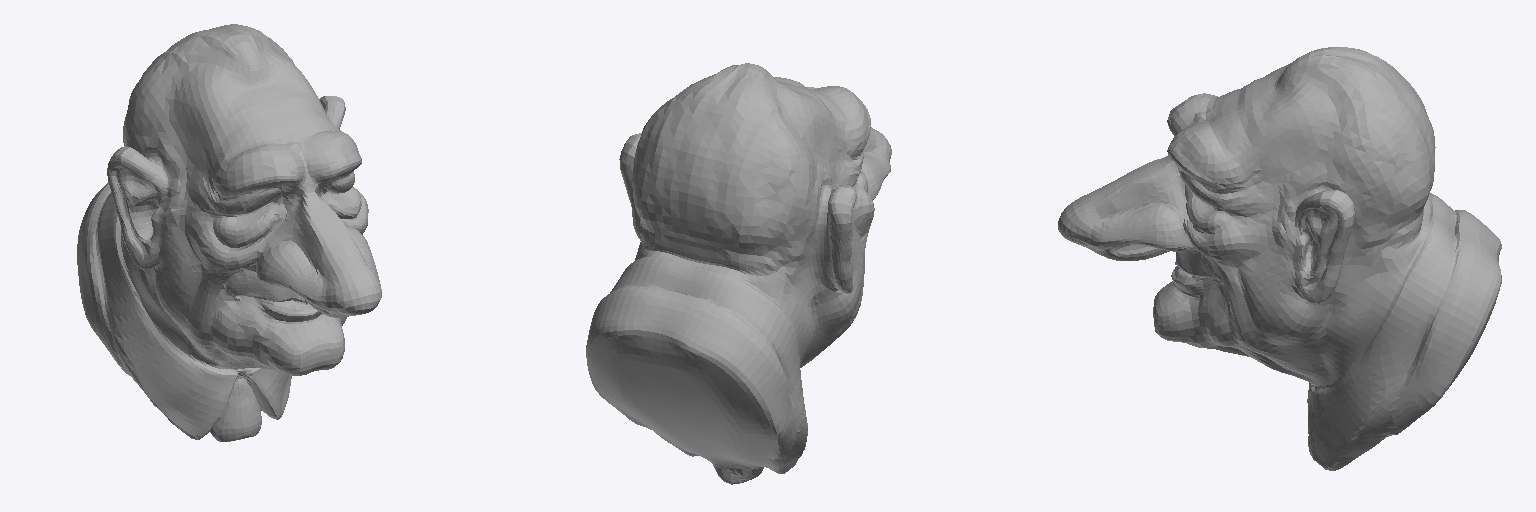
Rendered from jacques.obj.
3 views of the same model, side by side, from view 1: azimuth 30°, elevation 25°; view 2: azimuth 150°, elevation 25°; view 3: azimuth 270°, elevation 25° (orthographic).
Visible parts, largest first — view 1: object_0; view 2: object_0; view 3: object_0.
Boxes of the visible parts, x1=… form: object_0: x1=77, y1=24, x2=381, y2=441; object_0: x1=586, y1=63, x2=891, y2=484; object_0: x1=1058, y1=47, x2=1501, y2=470.
Bounding box in the file's own units: 2.77 × 4.67 × 4.6.